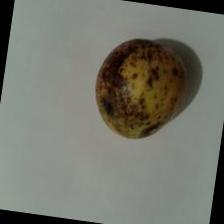Mango Overripe: (88, 30, 194, 145)
